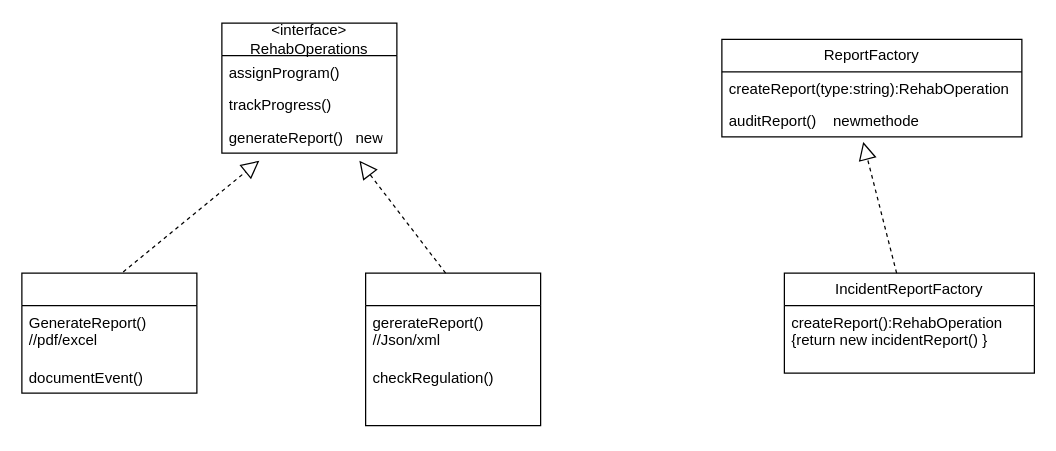
The diagram is 1056 pixels wide and 451 high, and some of its shapes have lost their labels. Each missing label, with the box of its shape:
ComplienceReport: (364, 272, 541, 426)
IncidentReport: (21, 272, 197, 393)
